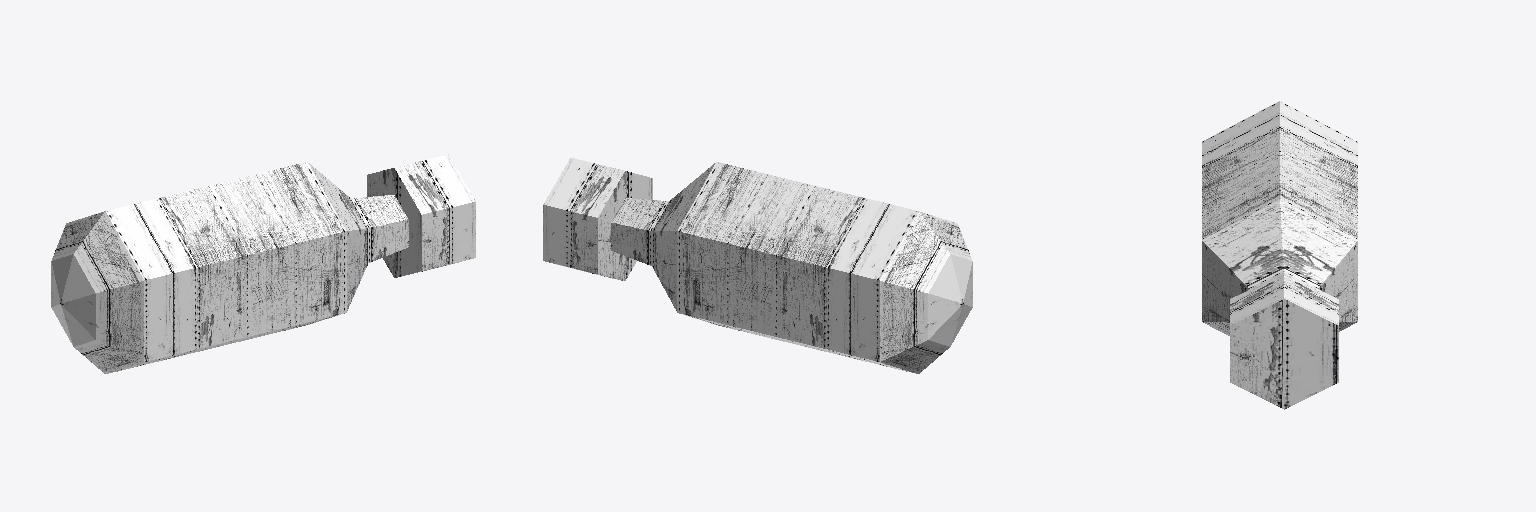
The picture shows the model from 3 angles: view 1: azimuth 30°, elevation 25°; view 2: azimuth 150°, elevation 25°; view 3: azimuth 270°, elevation 25°; orthographic projection.
Parts seen in each view (by area): view 1: Mesh1 Model; view 2: Mesh1 Model; view 3: Mesh1 Model.
Part boxes in pixels (x1,y1,x2,y2): Mesh1 Model: (51, 154, 475, 373); Mesh1 Model: (543, 158, 972, 373); Mesh1 Model: (1202, 101, 1357, 409).
Bounding box in the file's own units: 2.5 × 1 × 0.866.
3 materials, 1 textured.